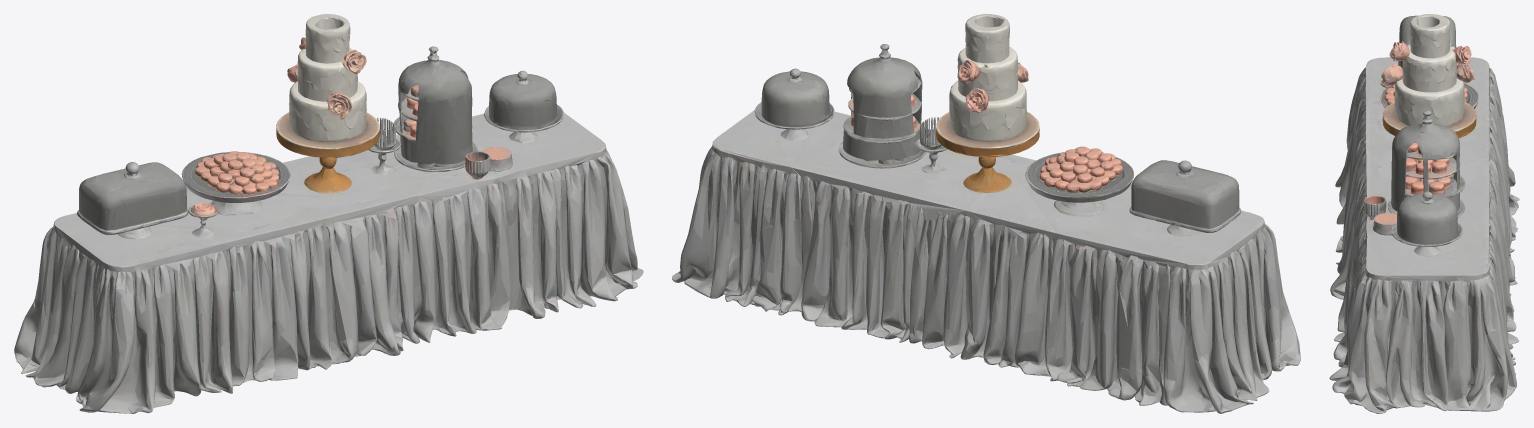
Rendered from dessertTable.glb.
The picture shows the model from 3 angles, left to right: view 1: azimuth 30°, elevation 25°; view 2: azimuth 150°, elevation 25°; view 3: azimuth 270°, elevation 25°; orthographic projection. The views are drawn at different scales.
Size of the model in its own units: 1.9 by 0.9466 by 0.6088.
1 material, 1 textured.
